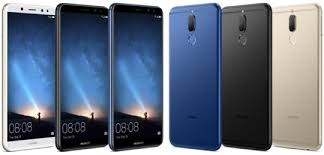huawei: (108, 1, 165, 153), (167, 1, 221, 150), (55, 1, 109, 149), (218, 1, 272, 149), (270, 1, 324, 149), (1, 4, 54, 153)
